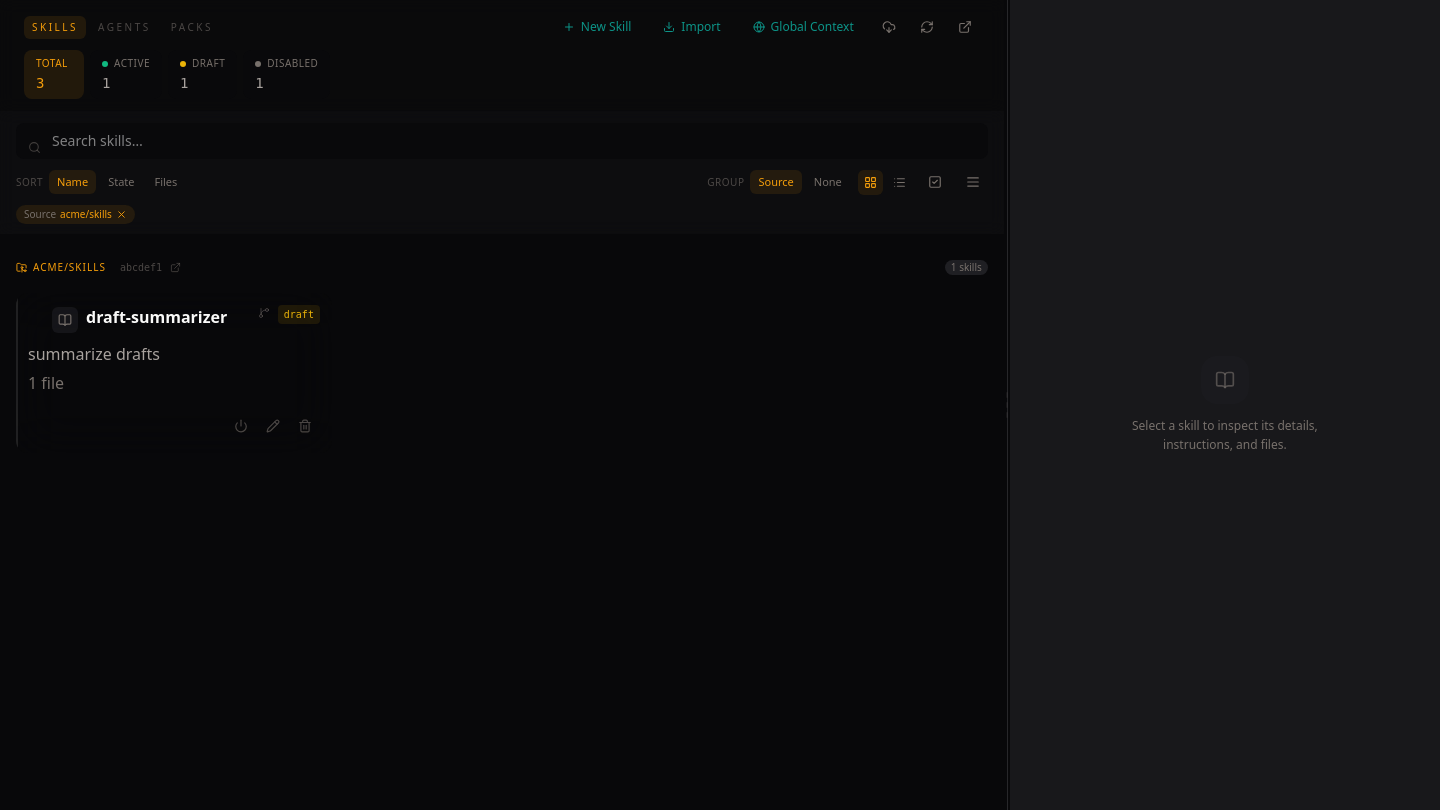
Scenario: LibraryWorkspace › provenance grouping › restores the isolate from ?source= and clears it via the source facet chip
The image size is (1440, 810).
Expected: the text "incident-triage" is not shown
Note: The source facet chip is now the persistent clear control.
Click the button with aria-label "clear source filter": click(75, 214) [16,205,135,224]
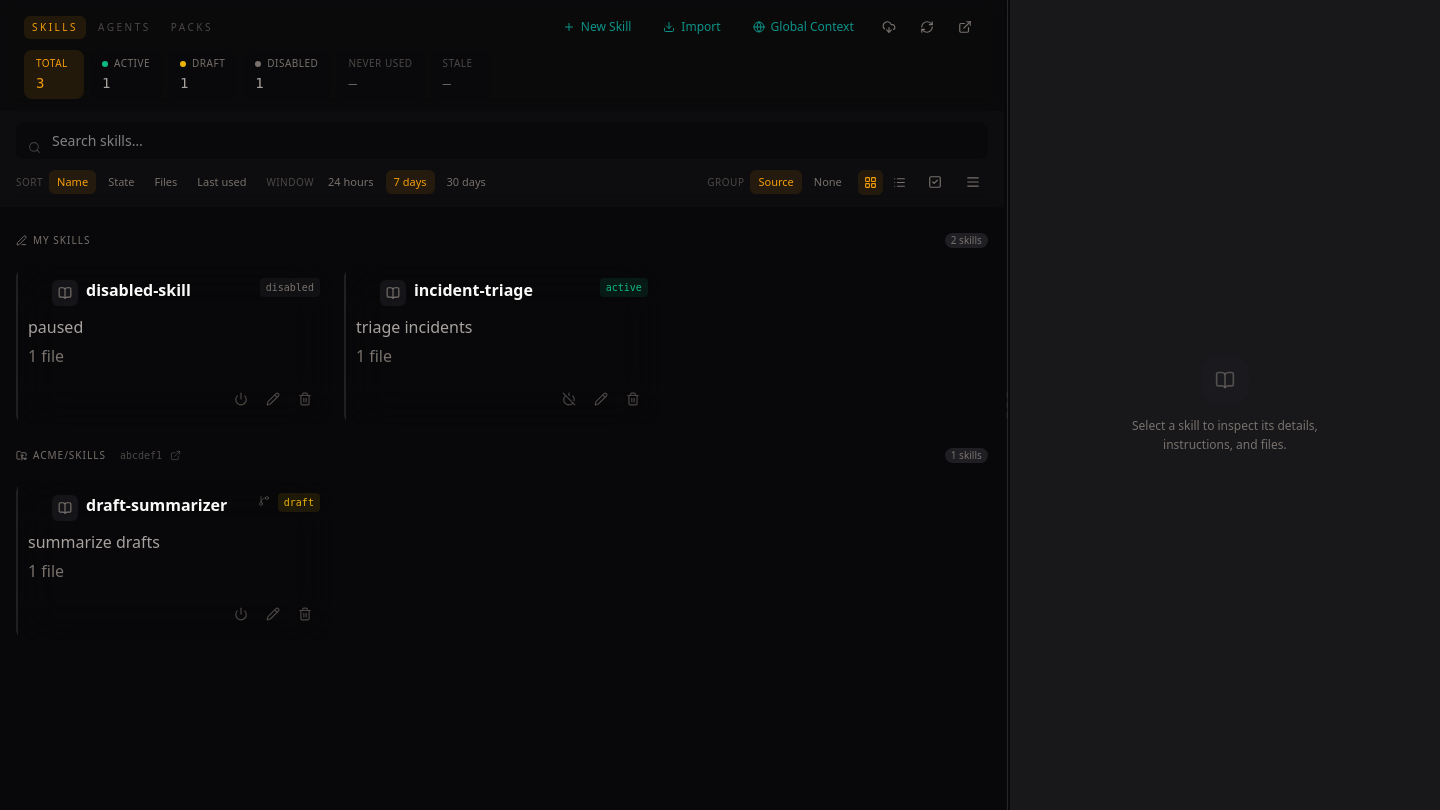
Expected: the text "incident-triage" is shown, [414,279,533,301]
